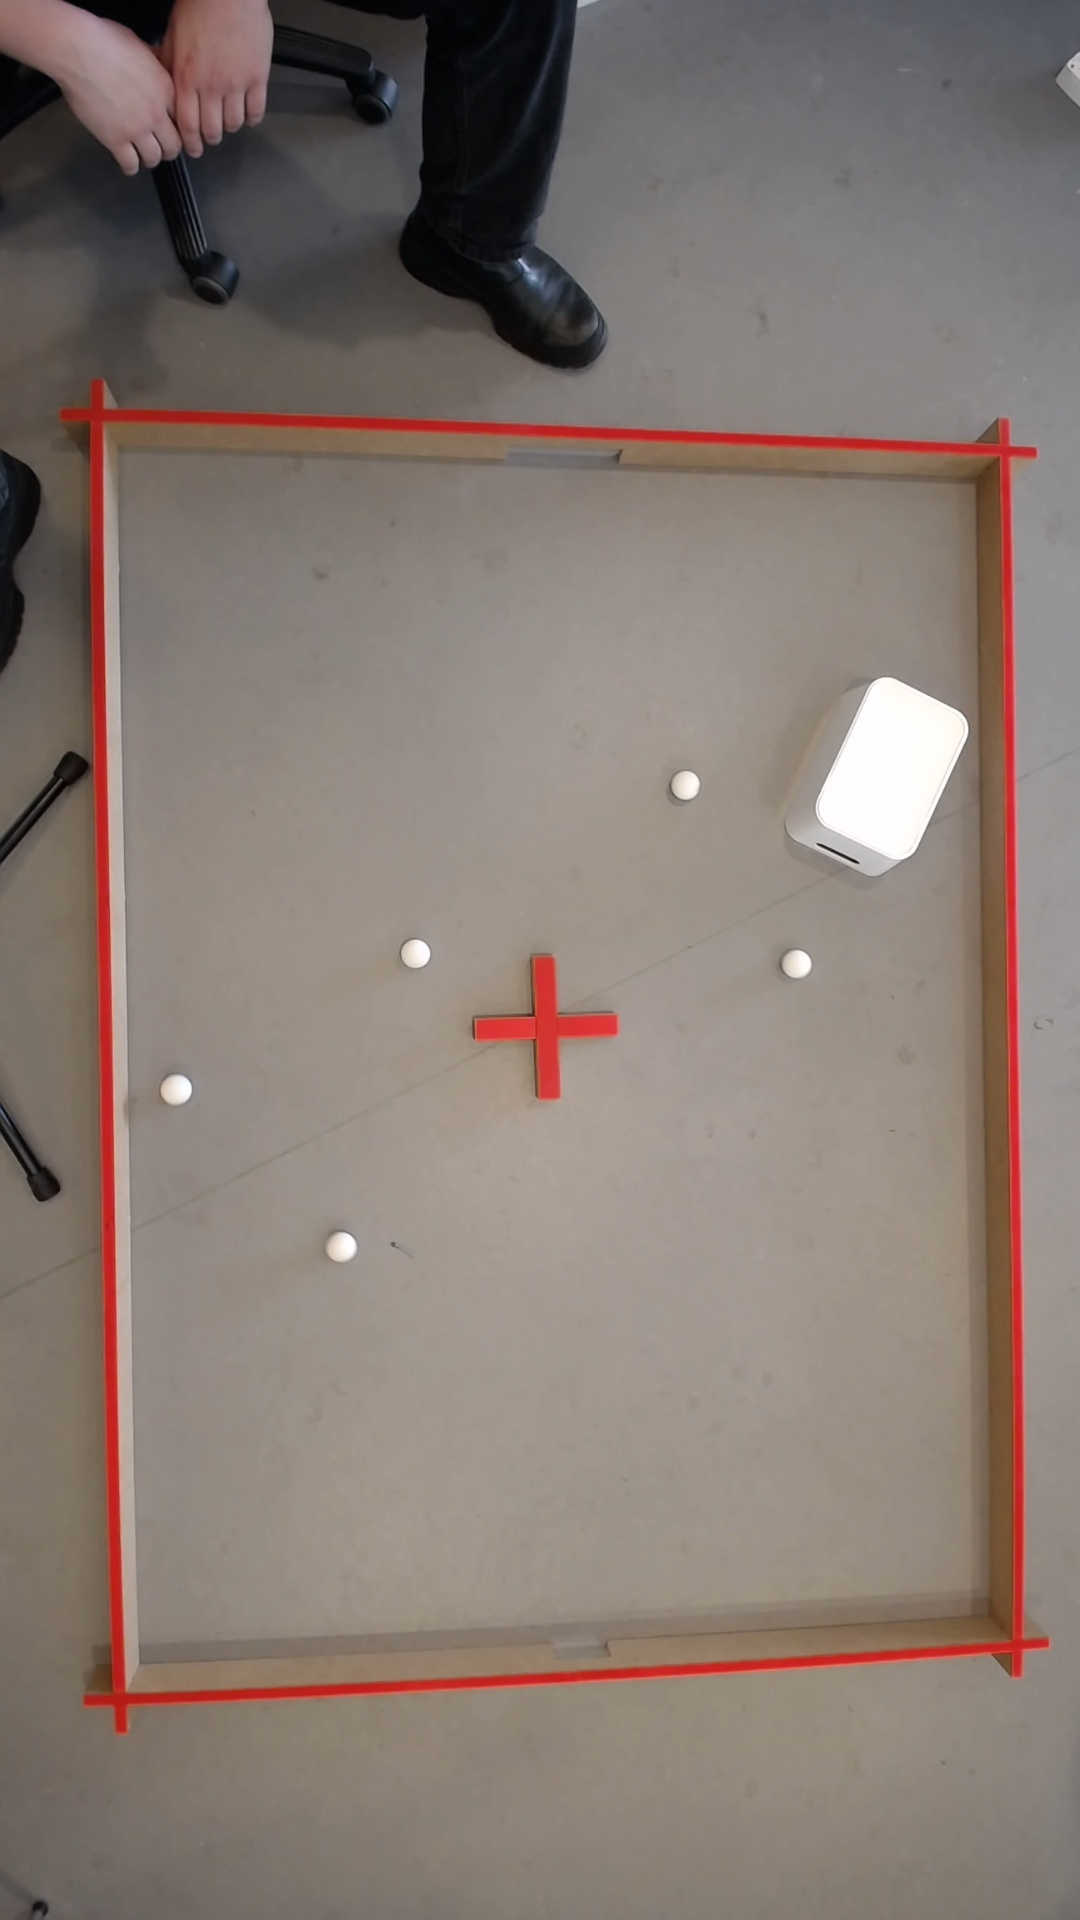balls: (806, 669, 977, 866), (161, 1071, 195, 1106), (401, 936, 434, 971), (789, 949, 811, 976), (678, 771, 699, 799)
car: (327, 1229, 360, 1263)
